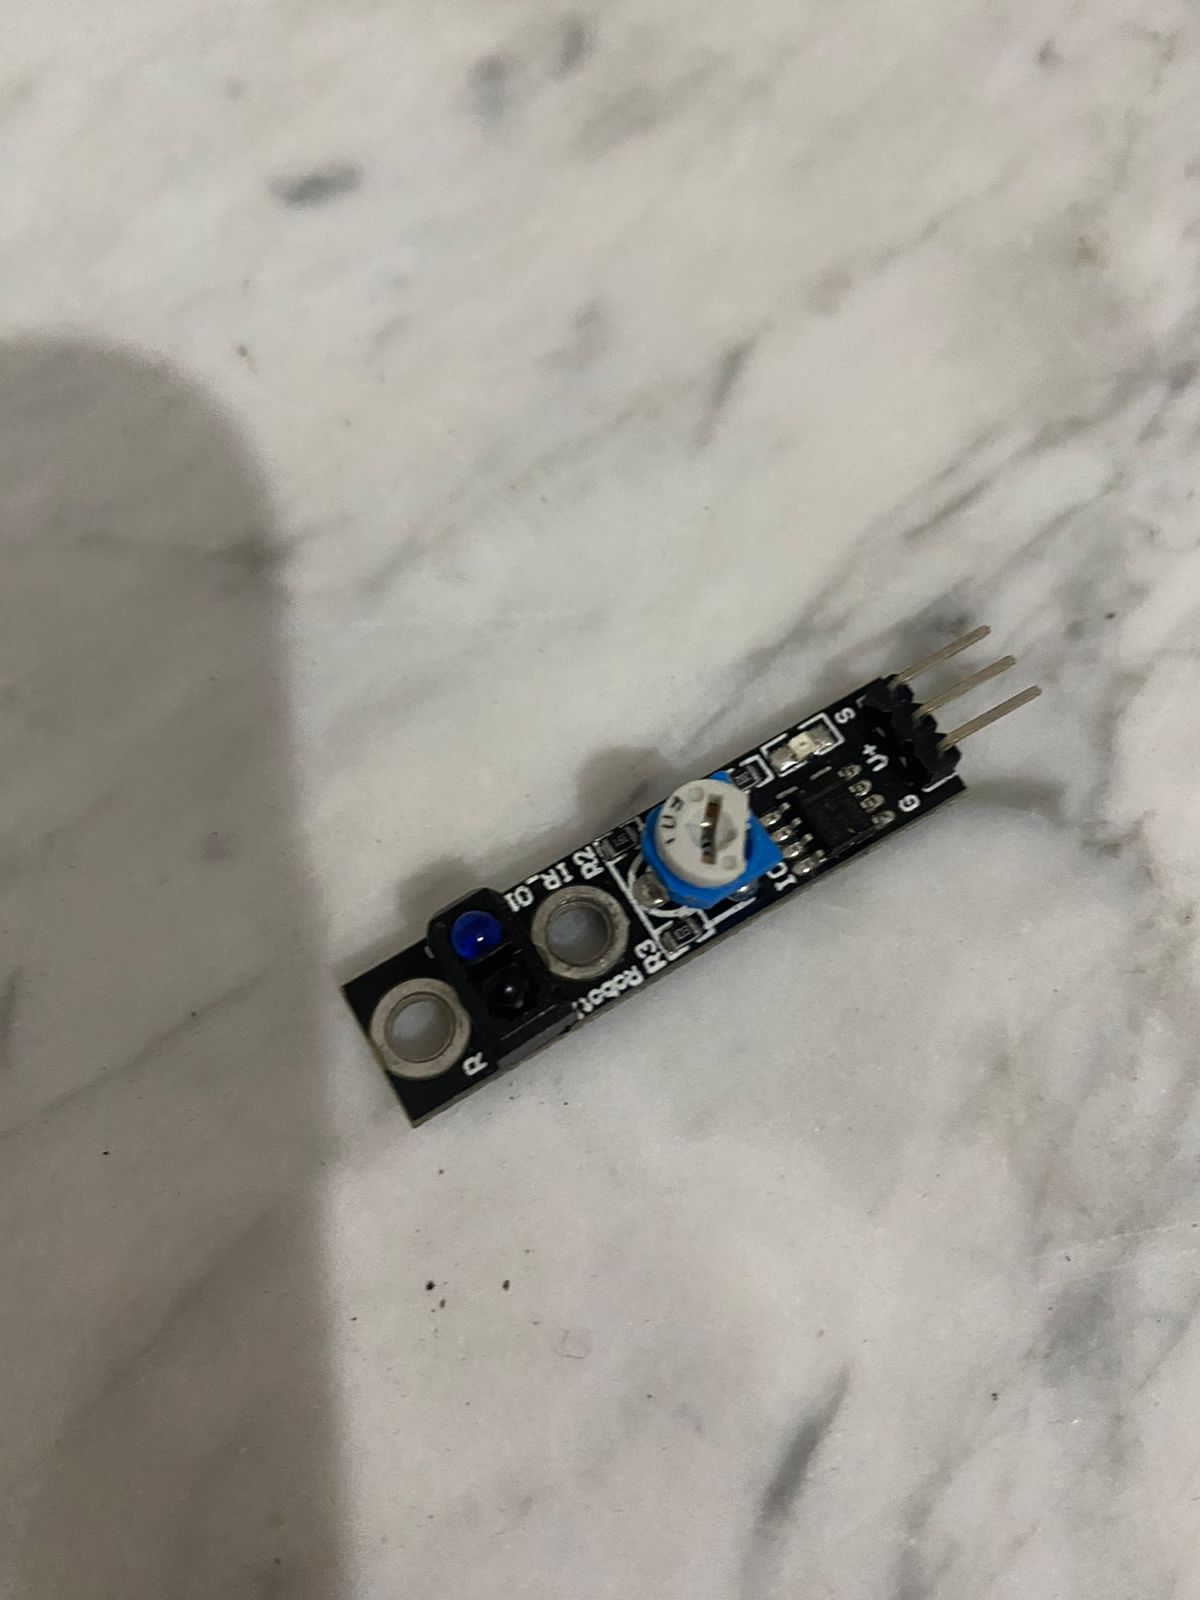ir-sensor: (330, 626, 1060, 1145)
